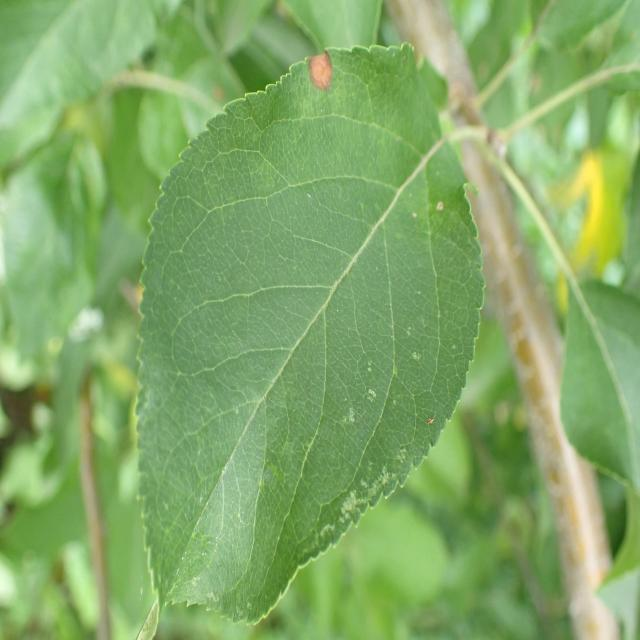Black Rot: (294, 23, 342, 114)
